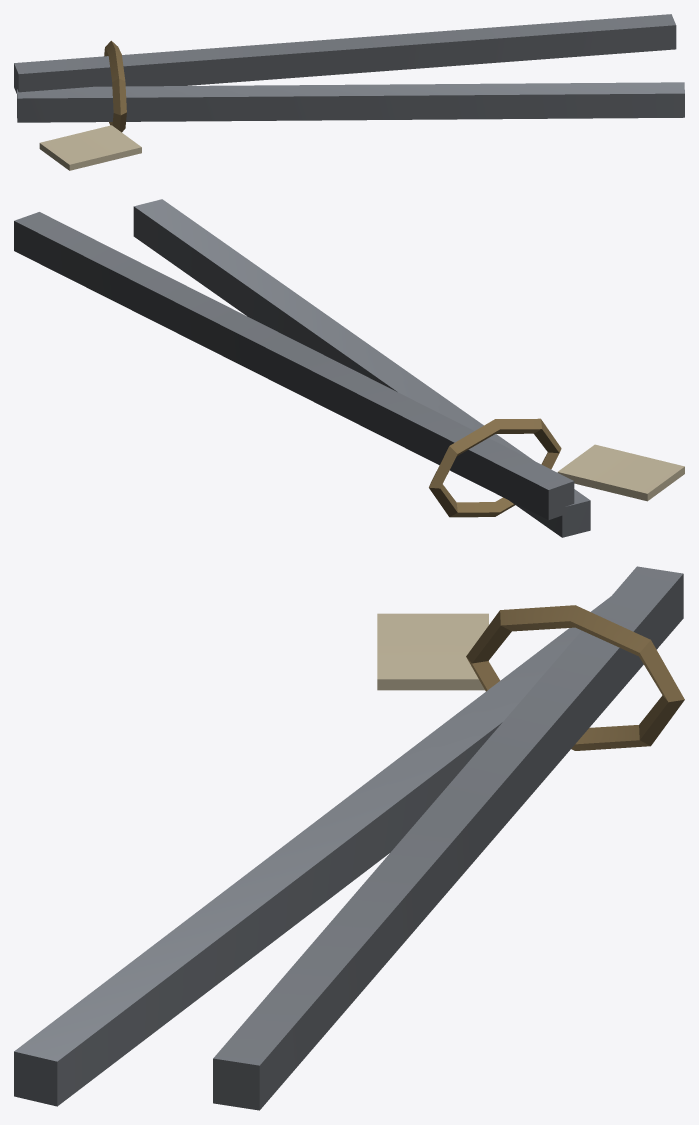
Rendered from ph_item_steel_rod.glb.
The picture shows the model from 3 angles, top to bottom: view 1: azimuth 30°, elevation 25°; view 2: azimuth 150°, elevation 25°; view 3: azimuth 270°, elevation 25°; orthographic projection. The views are drawn at different scales.
Parts seen in each view (by area): view 1: ph_item_steel_rod; view 2: ph_item_steel_rod; view 3: ph_item_steel_rod.
Part boxes in pixels (left/top/right/bottom): ph_item_steel_rod: left=14, top=14, right=684, bottom=170; ph_item_steel_rod: left=14, top=199, right=684, bottom=537; ph_item_steel_rod: left=14, top=566, right=684, bottom=1110.
Size of the model in its own units: 0.3945 by 0.052 by 0.2166.
